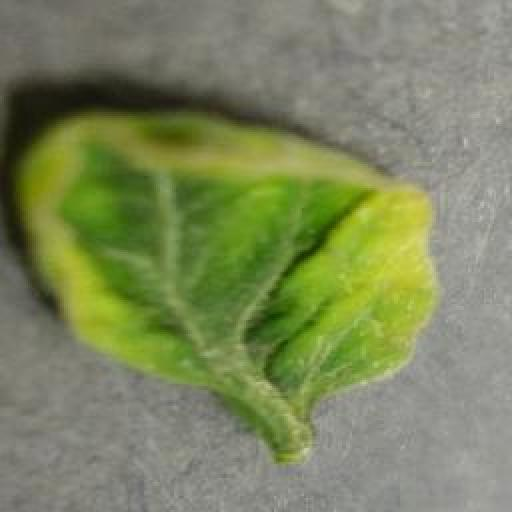disease_tomato: (17, 107, 440, 396)
